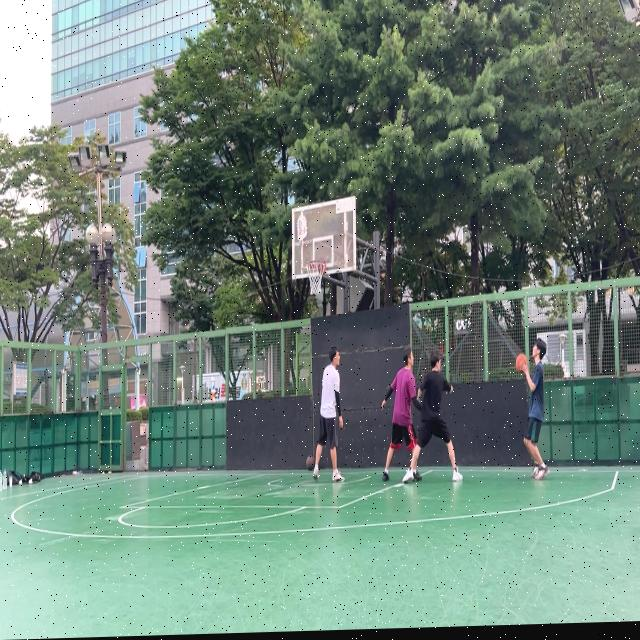basketball: (516, 353, 528, 373), (306, 455, 316, 471)
hoop: (306, 259, 326, 296)
